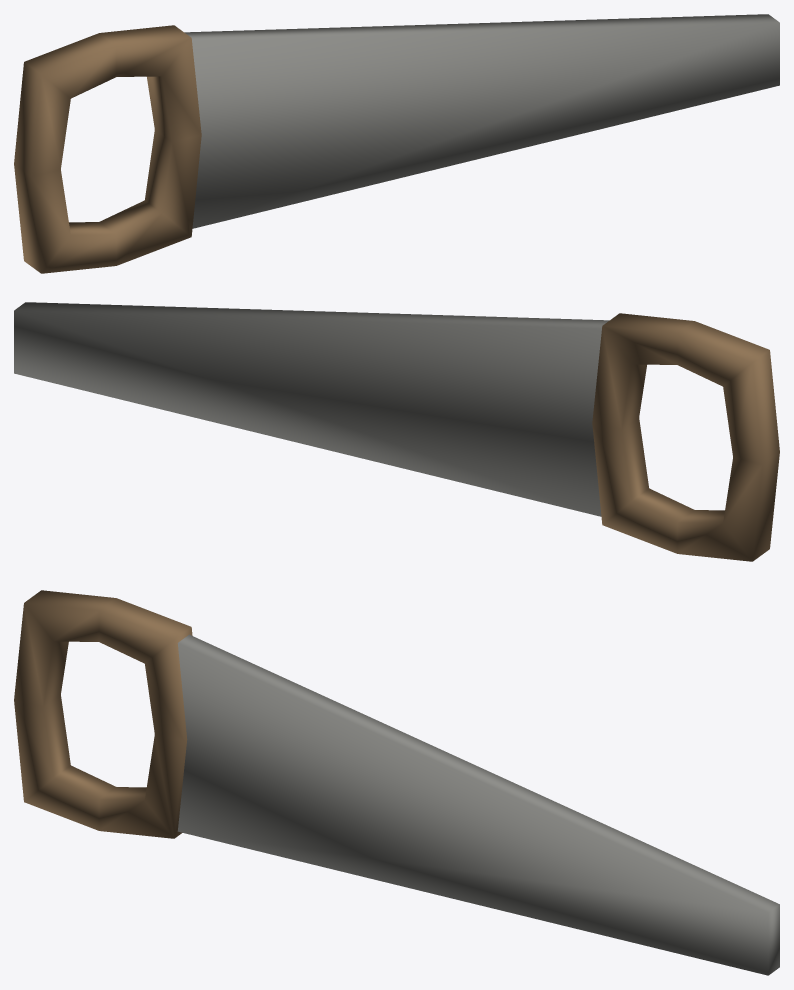
Rendered from rpgpp_ag_saw_02.fbx.
3 renders of one model, top to bottom at view 1: azimuth 30°, elevation 25°; view 2: azimuth 150°, elevation 25°; view 3: azimuth 330°, elevation 25°, orthographic.
Visible parts, largest first — view 1: rpgpp_ag_saw_02; view 2: rpgpp_ag_saw_02; view 3: rpgpp_ag_saw_02.
Boxes of the visible parts, x1,y1,x2,y2 form: rpgpp_ag_saw_02: (14,14,779,273); rpgpp_ag_saw_02: (14,302,779,561); rpgpp_ag_saw_02: (14,590,779,975).
Size of the model in its own units: 0.6 by 0.168 by 0.024.
